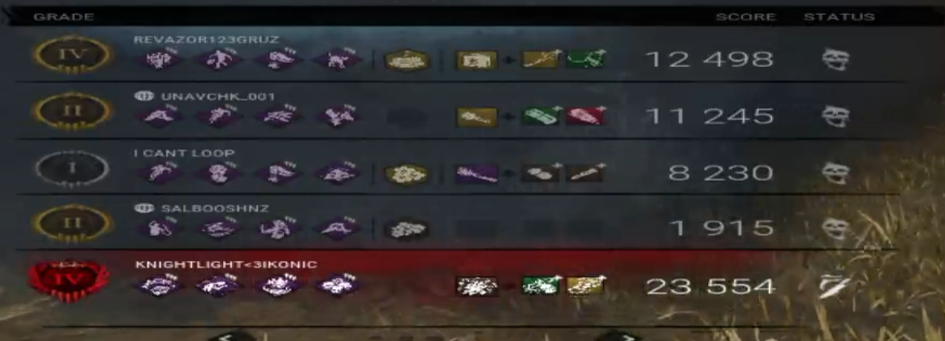any_means_necessary: (255, 216, 301, 240)
bbq_and_chilli: (256, 273, 302, 297)
borrowed_time: (255, 47, 301, 71), (255, 161, 301, 185)
botany_knowledge: (256, 104, 302, 128)
corrupt_intervention: (137, 273, 183, 297)
dead_hard: (195, 104, 241, 128), (136, 160, 182, 184)
decisive_strike: (137, 104, 183, 128), (315, 216, 361, 240)
fearmonger: (196, 273, 242, 297)
iron_will: (315, 161, 361, 185)
lithe: (195, 216, 241, 240)
prove_thyself: (137, 47, 183, 71)
resilience: (197, 161, 243, 185)
self_care: (315, 105, 361, 129)
spine_chill: (315, 47, 361, 71)
thanatophobia: (316, 273, 362, 297)
well_make_it: (135, 216, 181, 240)
were_gonna_live_forever: (196, 47, 242, 71)
